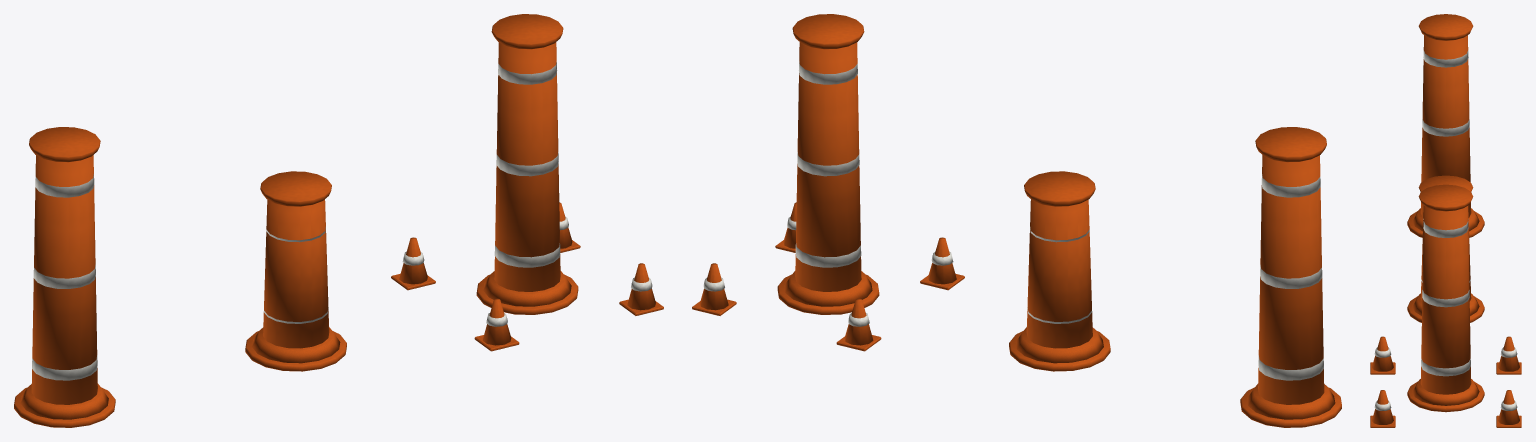
Rendered from steam_stack.glb.
3 views of the same model, side by side, from view 1: azimuth 30°, elevation 25°; view 2: azimuth 150°, elevation 25°; view 3: azimuth 270°, elevation 25° (orthographic). The views are drawn at different scales.
Parts seen in each view (by area): view 1: steam_stack_v3, steam_stack_v1, steam_stack_v2; view 2: steam_stack_v3, steam_stack_v1, steam_stack_v2; view 3: steam_stack_v3, steam_stack_v1, steam_stack_v2.
Part boxes in pixels (bbox=[...]): steam_stack_v3: bbox=[391, 14, 663, 351]; steam_stack_v1: bbox=[14, 127, 115, 427]; steam_stack_v2: bbox=[245, 171, 346, 371]; steam_stack_v3: bbox=[692, 14, 964, 351]; steam_stack_v1: bbox=[1240, 127, 1341, 427]; steam_stack_v2: bbox=[1009, 171, 1110, 371]; steam_stack_v3: bbox=[1370, 184, 1521, 427]; steam_stack_v1: bbox=[1407, 14, 1484, 237]; steam_stack_v2: bbox=[1407, 175, 1484, 322].
Size of the model in its own units: 6.16 by 2.63 by 1.8.
Materials: 2 (2 with a texture image).
